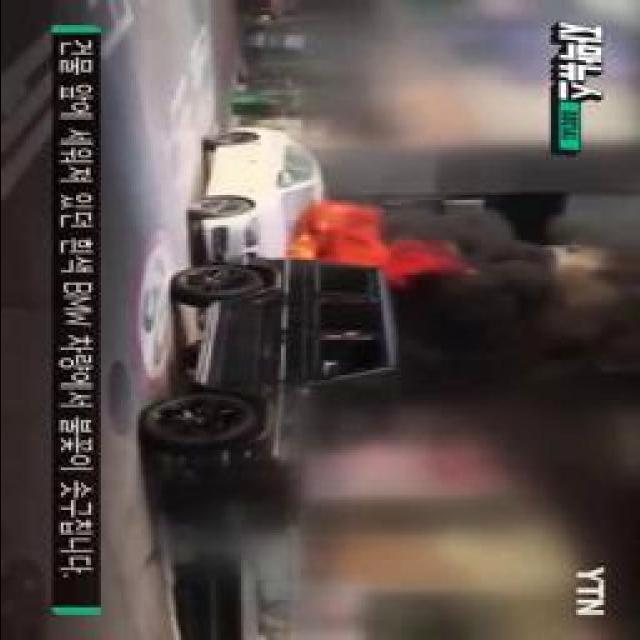Fire: (290, 205, 414, 277)
